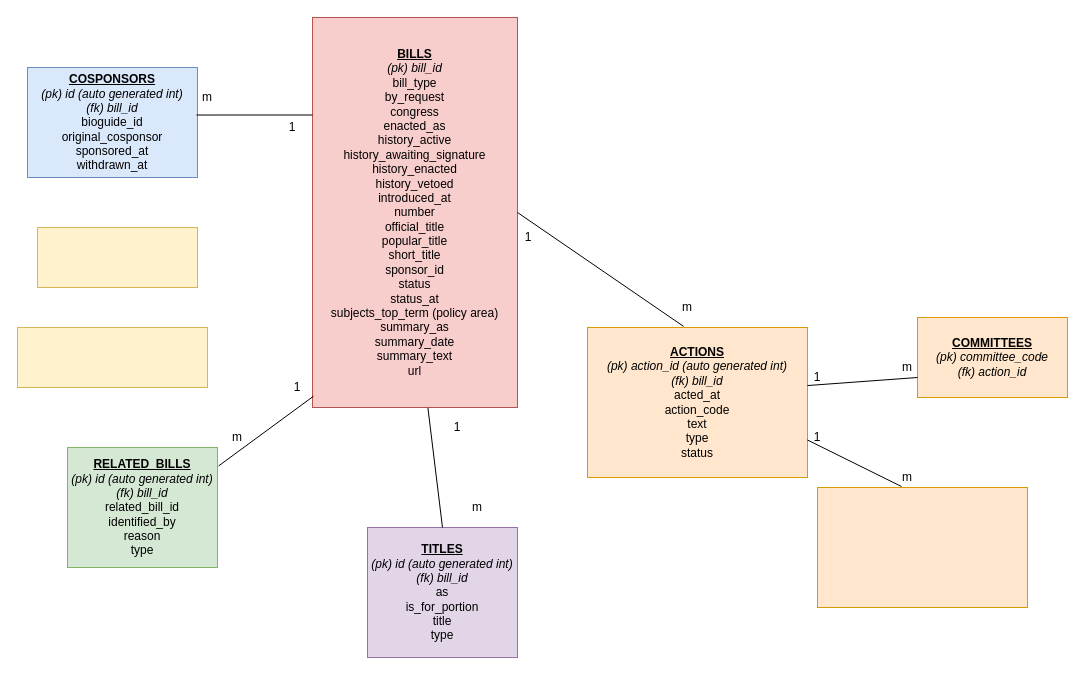
Some shapes in this 1085 by 675 pixel diagram are drawn without their labels. The shapes that lost their labels are listed below. From the top down, each one's centre as x and y in pixels, then its label:
At point (117, 257): "AMENDMENTS (to-do) (pk) id (auto generated int) (fk) bill_id".
At point (112, 357): "COMMITTEE_REPORTS (to-do) (pk) id (auto generated int) (fk) bill_id".
At point (922, 547): "REFERENCES (pk) reference_id (auto generated int) (fk) action_id reference type".
